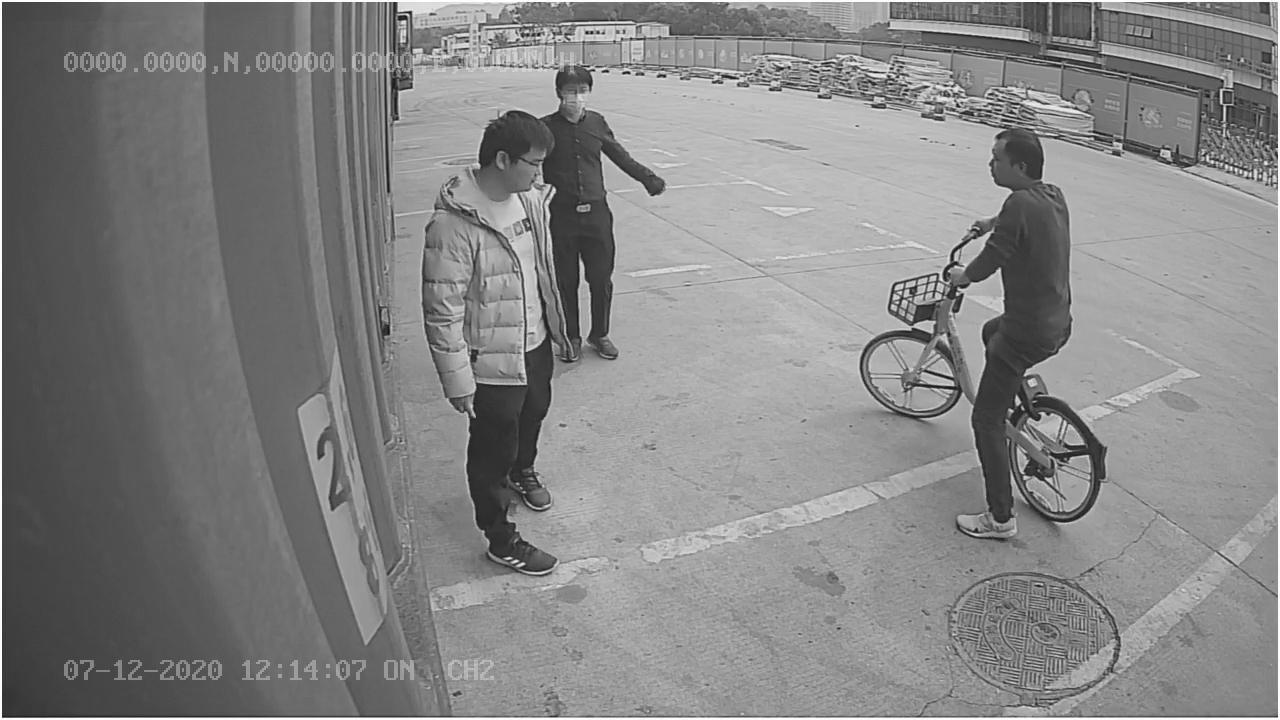person: (425, 109, 573, 578)
